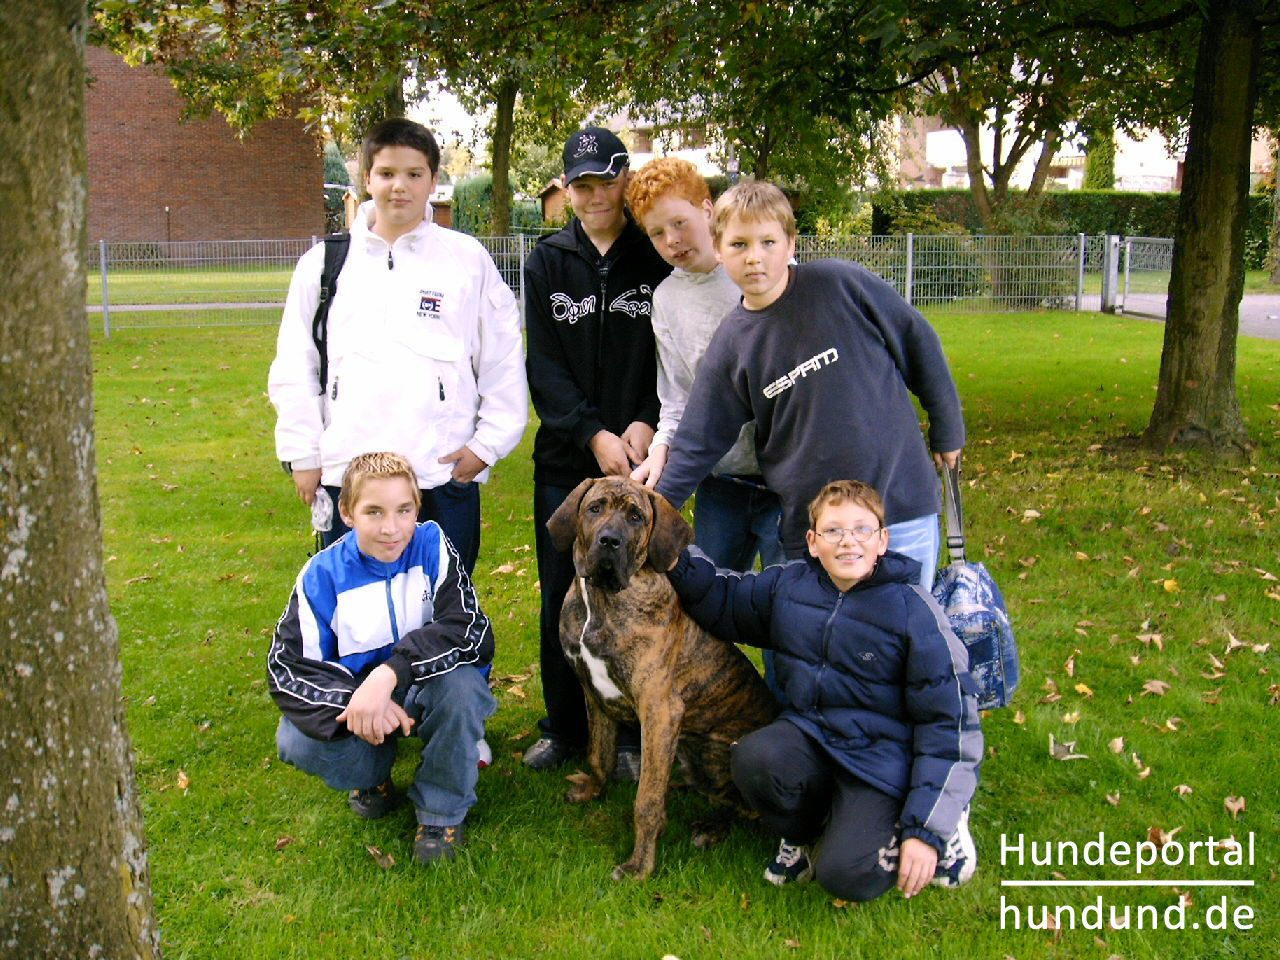fila_brasileiro: (542, 474, 778, 883)
human_face: (337, 480, 421, 564), (713, 218, 794, 298), (803, 504, 888, 582), (361, 144, 438, 227), (642, 200, 720, 271), (561, 172, 627, 232)
person: (265, 118, 525, 772), (667, 480, 981, 906), (649, 178, 967, 587), (525, 125, 674, 788), (263, 451, 497, 866), (622, 156, 781, 707)
